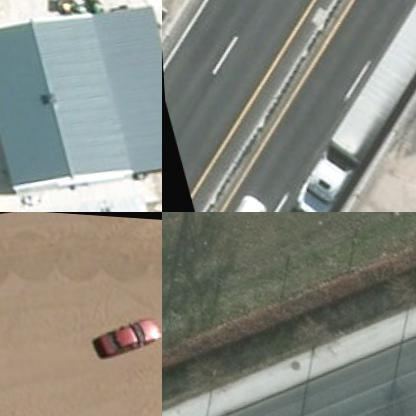car: (87, 305, 161, 358), (204, 186, 268, 211)
truck: (233, 0, 415, 211)
